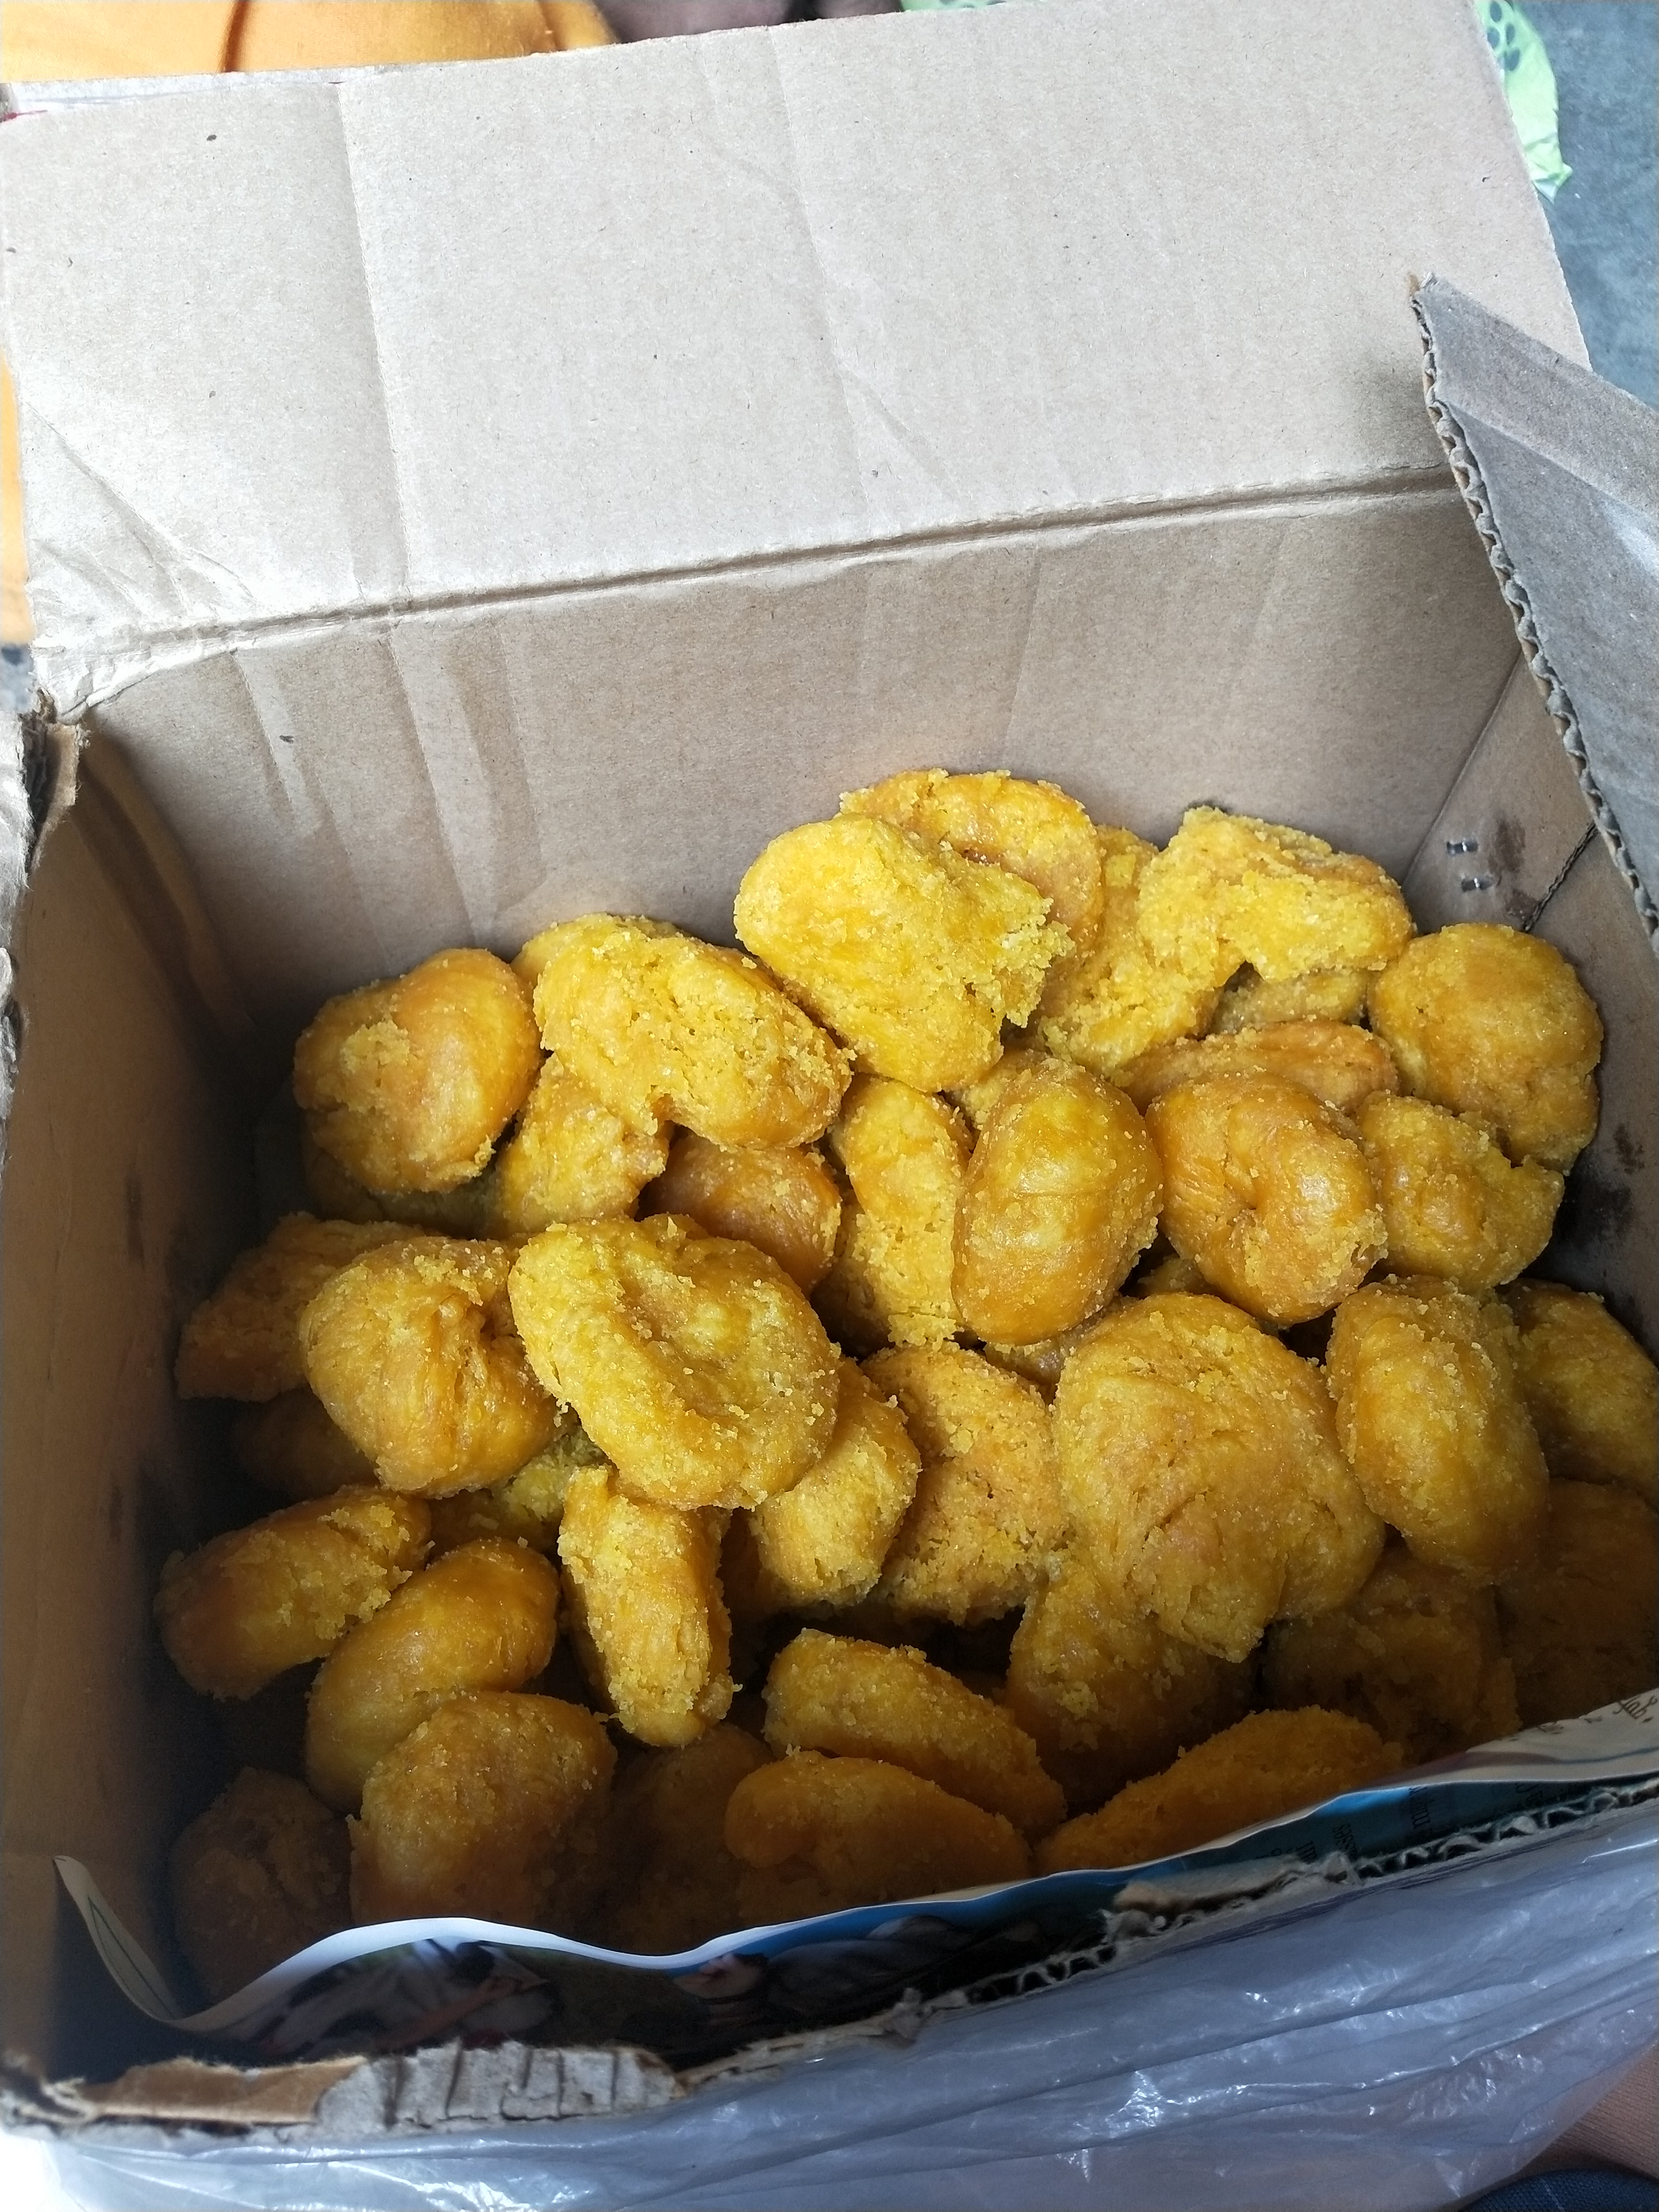food: (134, 756, 1659, 2000)
